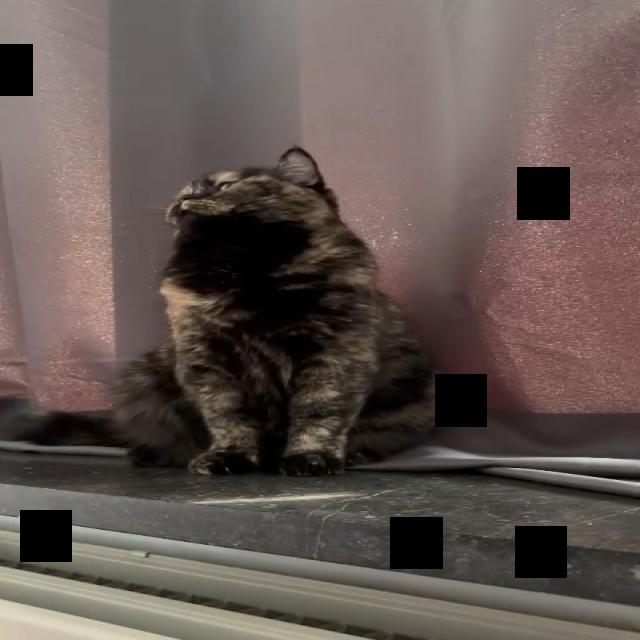authorized: (108, 144, 449, 477)
